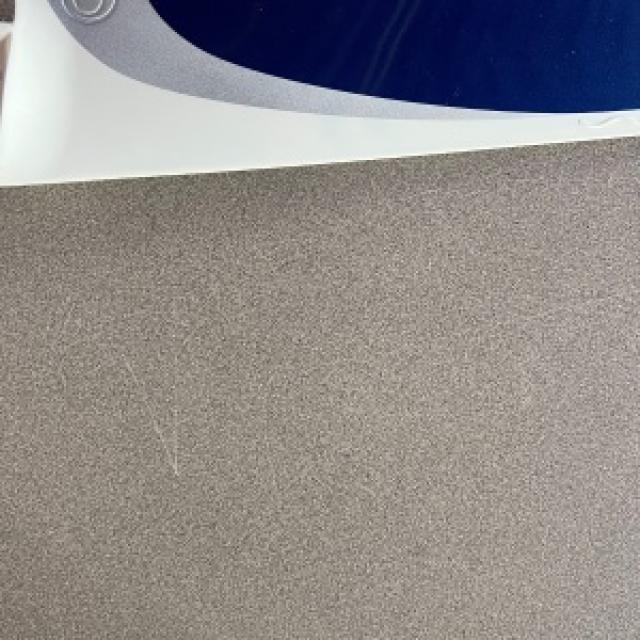healthy: (0, 134, 638, 638), (0, 0, 638, 183)
